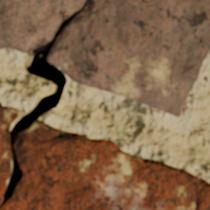broken_brick: (0, 0, 209, 117), (0, 120, 209, 209), (0, 101, 26, 202)
crack: (0, 2, 87, 207)
